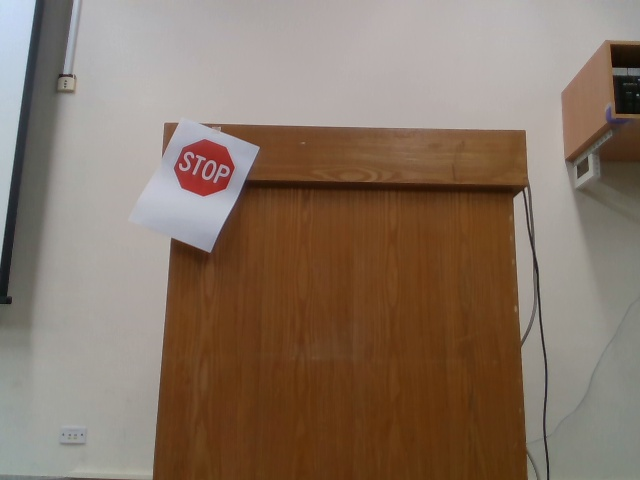stop: (172, 138, 236, 199)
